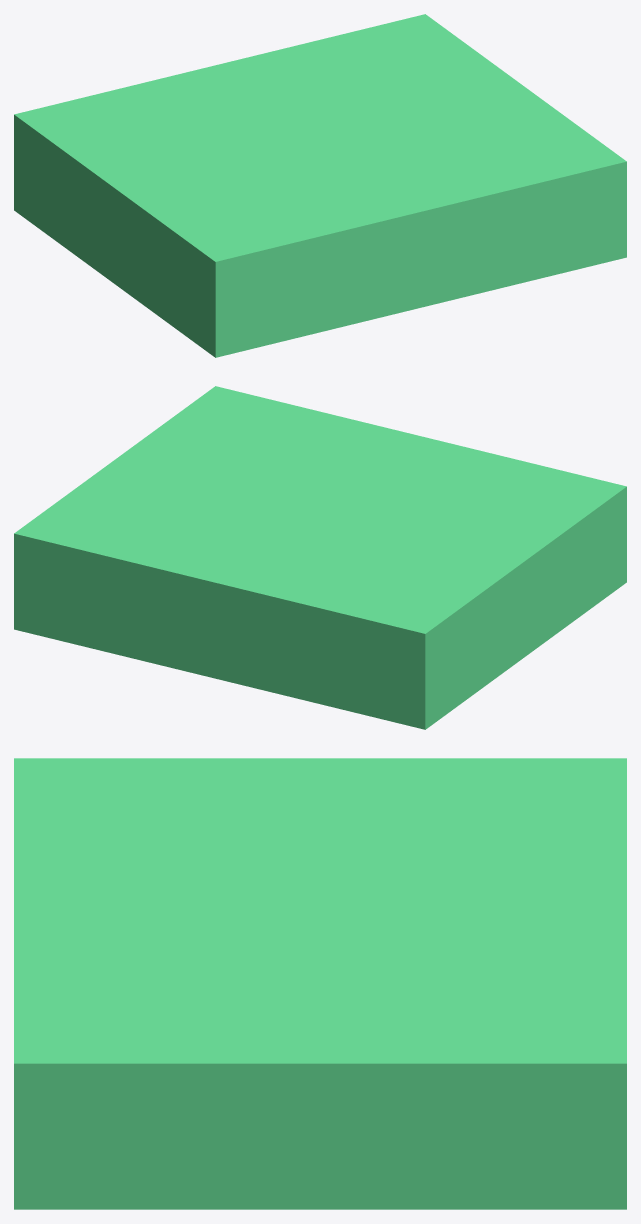
Rendered from rubble_pile_a.glb.
3 views of the same model, one above another, from view 1: azimuth 30°, elevation 25°; view 2: azimuth 150°, elevation 25°; view 3: azimuth 270°, elevation 25° (orthographic). The views are drawn at different scales.
Visible parts, largest first — view 1: rubble_pile_a-col; view 2: rubble_pile_a-col; view 3: rubble_pile_a-col.
Part boxes in pixels (x1,y1,x2,y2): rubble_pile_a-col: (14,14,626,357); rubble_pile_a-col: (14,386,626,729); rubble_pile_a-col: (14,758,626,1209).
Size of the model in its own units: 3.2 by 0.7122 by 2.71.
